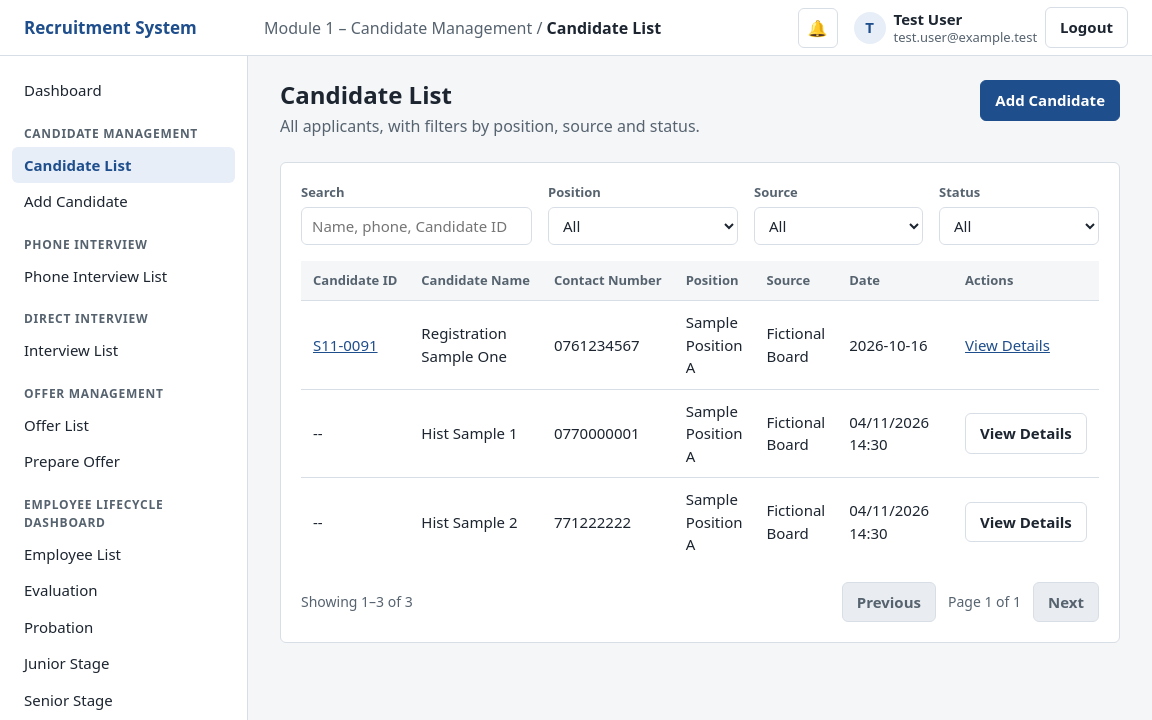
Candidate List: one Recruitment Records list › opens the full stored record from View Details, read only
The image size is (1152, 720).
What coordinates should you click on to do the following:
click the button with aria-label "View details of record 3"
I would click on:
 (1026, 522)
Its box is [965,502,1087,542].
(page scrolled)
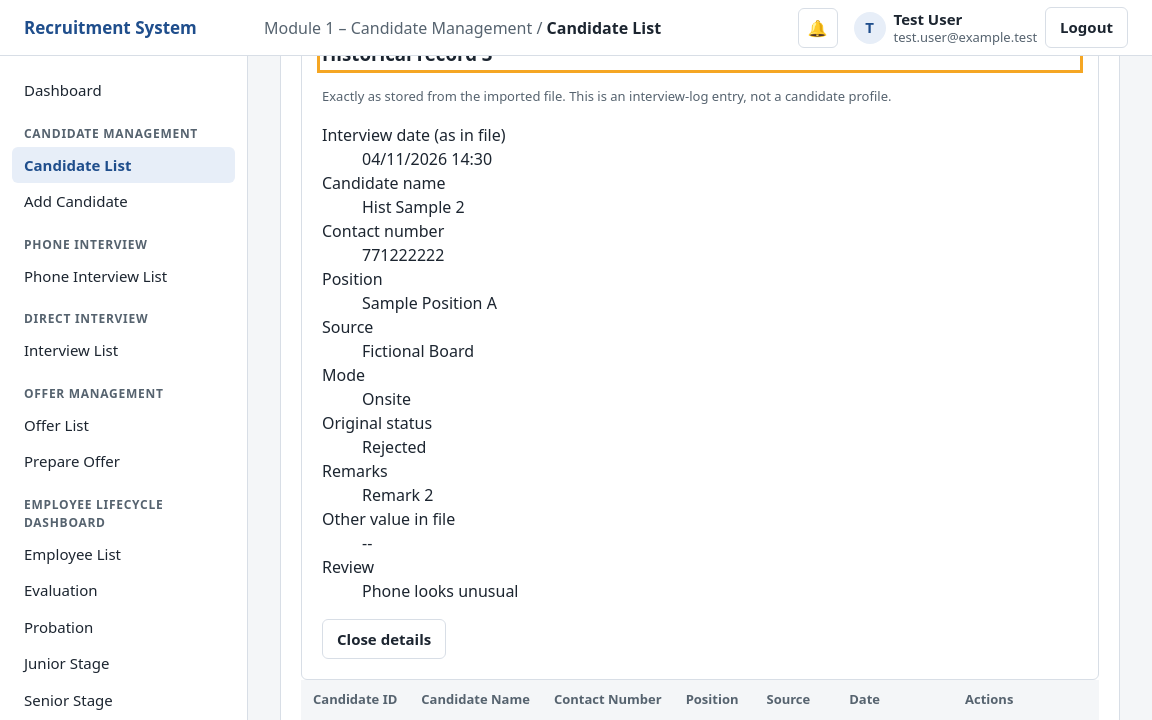
Expected: the text "Remark 2" is shown, [362,484,433,506]
Expected: the text "Phone looks unusual" is shown, [362,580,518,602]
